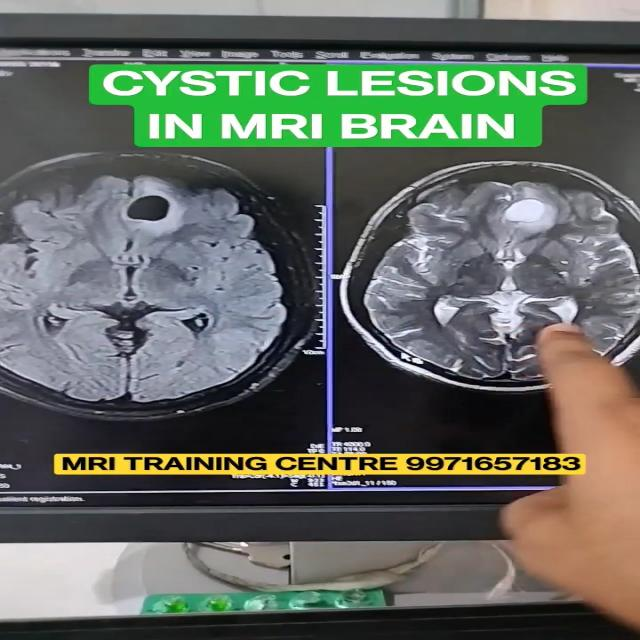tumor: (481, 184, 601, 238), (117, 179, 226, 226)
